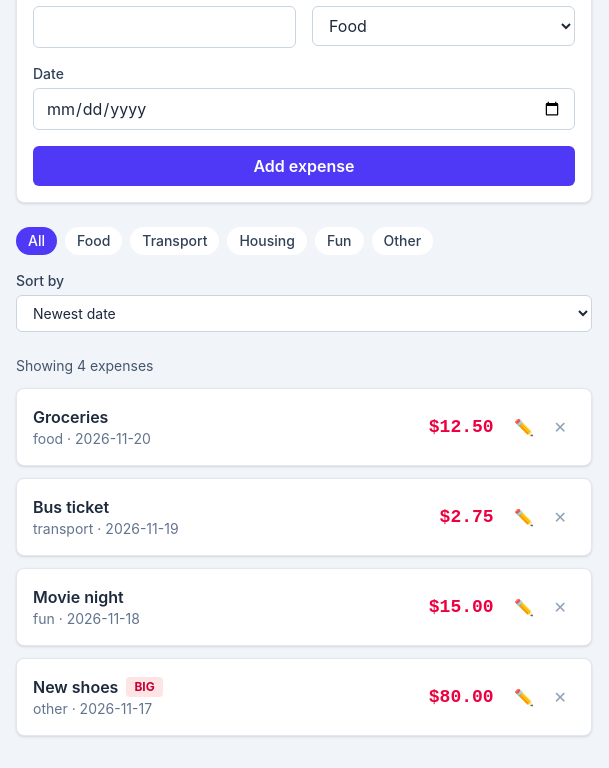
App › keeps the original values when editing is cancelled
The width and height of the screenshot is (609, 768).
(page scrolled)
Click the button named "Edit Groceries" at (524, 427), box [506, 411, 542, 443]
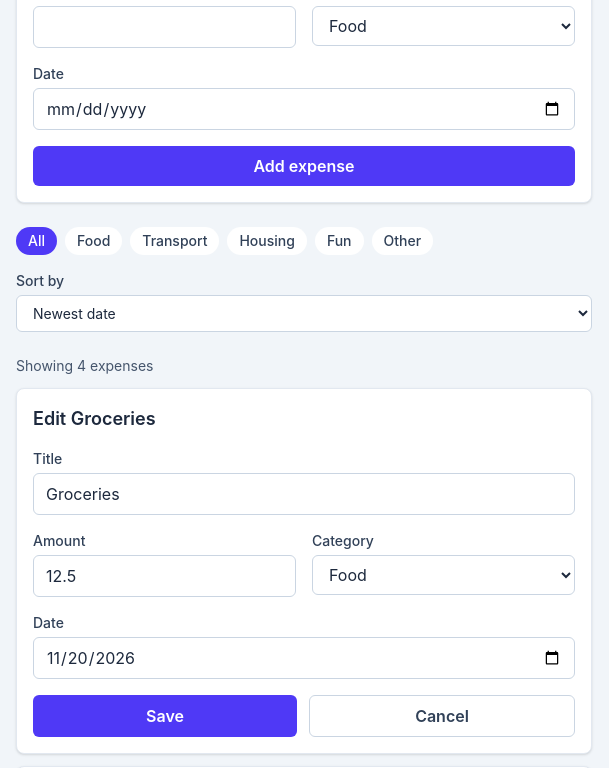
Replace the text in the field labelled "Title" with "Something else" at (304, 494), box [33, 473, 575, 515]
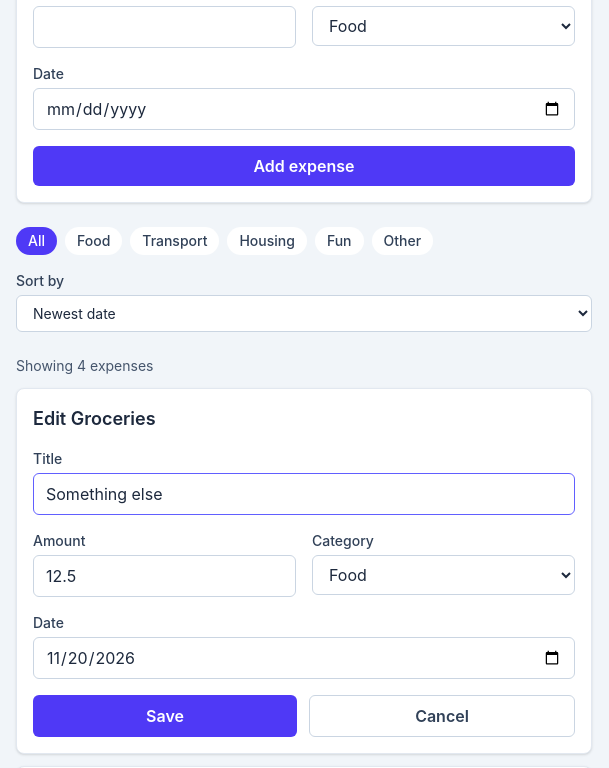
Click the button "Cancel" at (442, 716), box [309, 695, 575, 737]
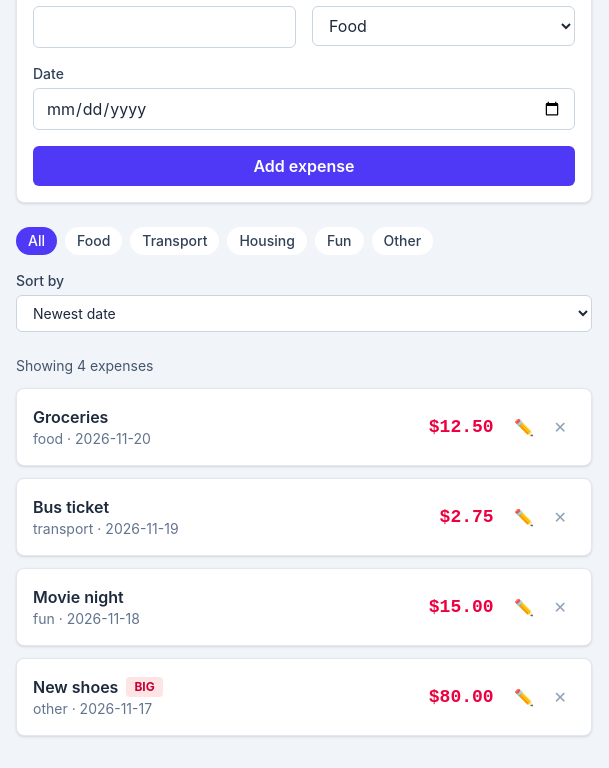
Check: the text "Groceries" is shown, box [33, 407, 108, 427]
Check: the heading "Edit Groceries" is gone
